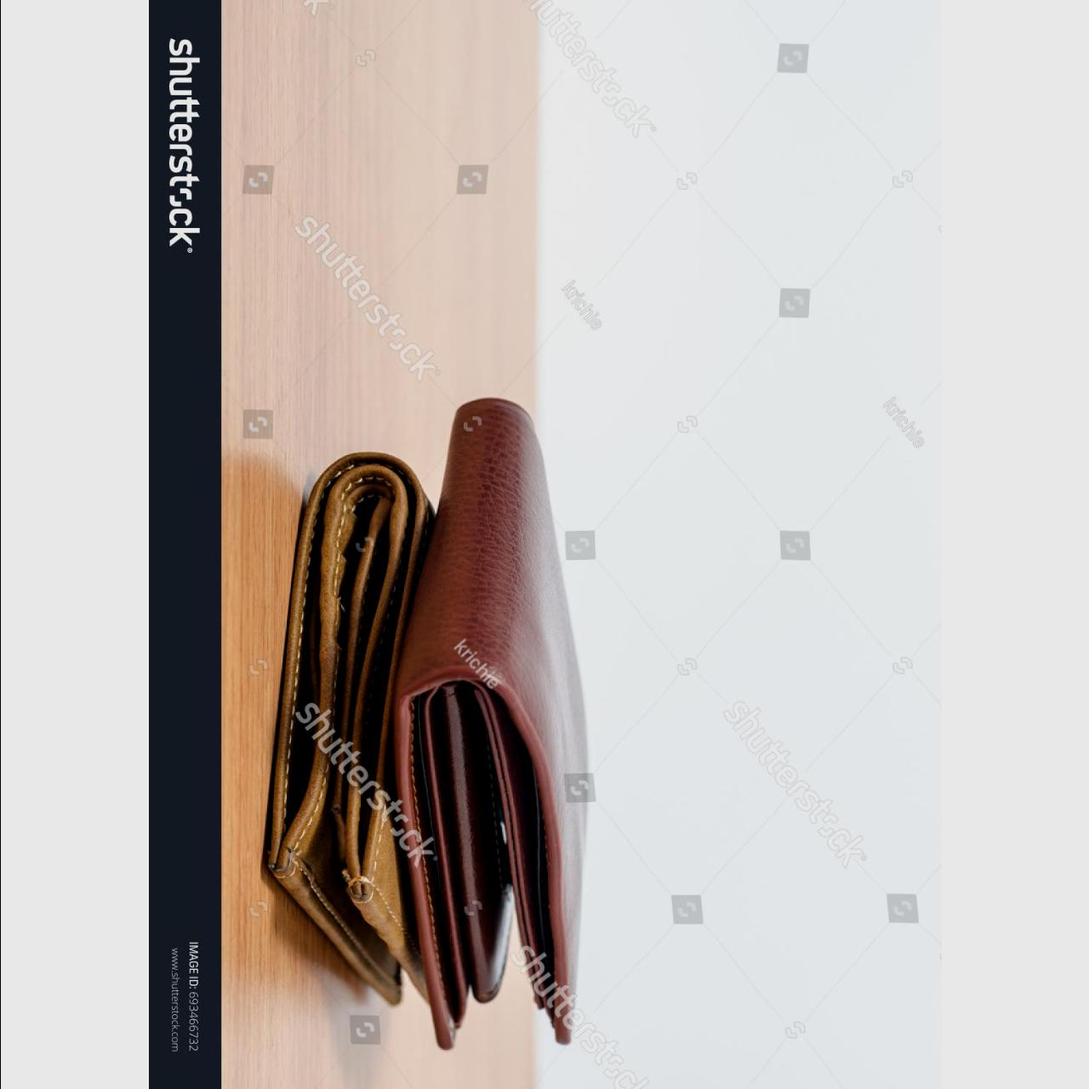wallet: (411, 431, 615, 1051), (227, 424, 425, 1026)
